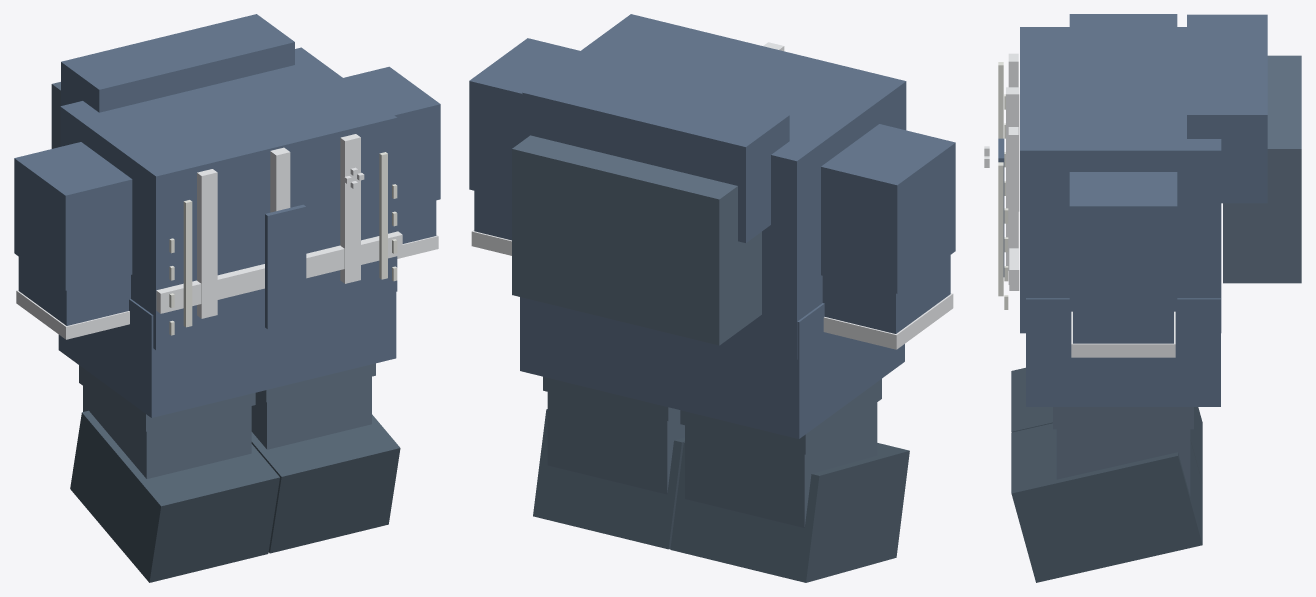
The model's file is raincoat-navy.glb.
3 renders of one model, left to right at view 1: azimuth 30°, elevation 25°; view 2: azimuth 150°, elevation 25°; view 3: azimuth 270°, elevation 25°, orthographic. The views are drawn at different scales.
Visible parts, largest first — view 1: jacket, coat-tails, shoe-Right, upper-sleeve-Right, rain-hood, shoe-Left, lower-trouser-Right, upper-sleeve-Left, lower-trouser-Left, design-raincoat-storm-flap, lower-sleeve-Right, reflective-band (+11 smaller); view 2: backpack, jacket, coat-tails, rain-hood, upper-sleeve-Right, shoe-Right, lower-trouser-Right, lower-trouser-Left, shoe-Left, upper-sleeve-Left, lower-sleeve-Right, trouser-Right (+4 smaller); view 3: jacket, shoe-Left, coat-tails, upper-sleeve-Left, rain-hood, backpack, lower-trouser-Left, lower-sleeve-Left, trouser-Left, shoe-Right, cuff-Left, upper-sleeve-Right (+5 smaller).
Boxes of the visible parts, left/top/right/bottom form: jacket: left=60, top=47, right=397, bottom=350; coat-tails: left=58, top=292, right=396, bottom=417; shoe-Right: left=70, top=410, right=279, bottom=582; upper-sleeve-Right: left=14, top=142, right=132, bottom=290; rain-hood: left=61, top=14, right=294, bottom=112; shoe-Left: left=251, top=414, right=400, bottom=553; lower-trouser-Right: left=83, top=386, right=251, bottom=478; upper-sleeve-Left: left=343, top=66, right=440, bottom=209; lower-trouser-Left: left=251, top=376, right=371, bottom=449; design-raincoat-storm-flap: left=265, top=204, right=306, bottom=329; lower-sleeve-Right: left=18, top=257, right=130, bottom=325; reflective-band: left=156, top=231, right=402, bottom=313; backpack: left=512, top=135, right=761, bottom=345; jacket: left=521, top=14, right=906, bottom=359; coat-tails: left=520, top=297, right=904, bottom=438; rain-hood: left=522, top=60, right=789, bottom=242; upper-sleeve-Right: left=821, top=124, right=955, bottom=293; shoe-Right: left=670, top=442, right=909, bottom=582; lower-trouser-Right: left=685, top=402, right=877, bottom=527; lower-trouser-Left: left=547, top=392, right=684, bottom=494; shoe-Left: left=533, top=409, right=684, bottom=549; upper-sleeve-Left: left=469, top=38, right=579, bottom=199; lower-sleeve-Right: left=822, top=255, right=950, bottom=333; trouser-Right: left=680, top=379, right=881, bottom=454; jacket: left=1020, top=27, right=1221, bottom=333; shoe-Left: left=1011, top=423, right=1202, bottom=582; coat-tails: left=1026, top=298, right=1220, bottom=406; upper-sleeve-Left: left=1069, top=172, right=1177, bottom=305; rain-hood: left=1187, top=14, right=1267, bottom=203; backpack: left=1223, top=55, right=1301, bottom=283; lower-trouser-Left: left=1056, top=429, right=1190, bottom=495; lower-sleeve-Left: left=1073, top=306, right=1173, bottom=343; trouser-Left: left=1053, top=407, right=1193, bottom=429; shoe-Right: left=1011, top=367, right=1202, bottom=483; cuff-Left: left=1071, top=311, right=1175, bottom=357; upper-sleeve-Right: left=1069, top=14, right=1177, bottom=26.
Bounding box in the file's own units: 1.07 × 1.19 × 0.748.
